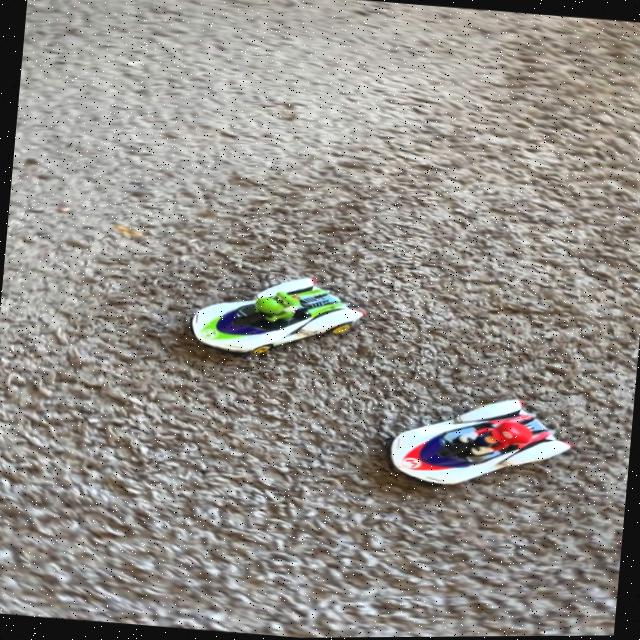mario: (365, 376, 591, 509)
yoshi: (172, 264, 376, 373)
